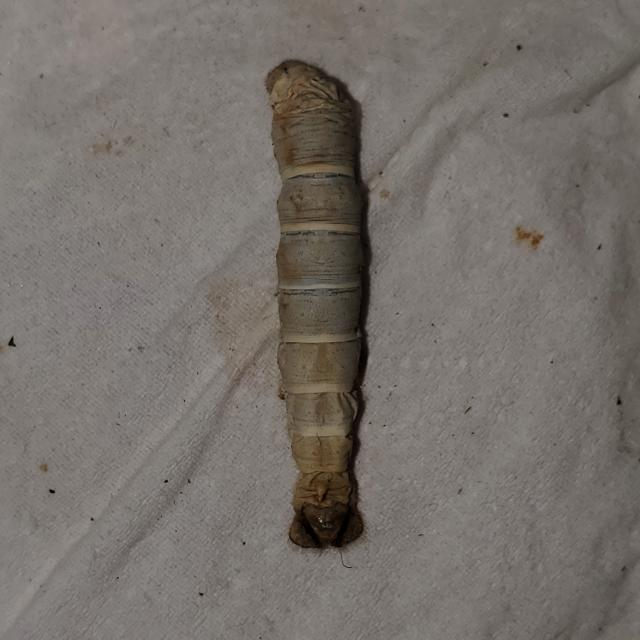Grasserie: (235, 41, 412, 556)
